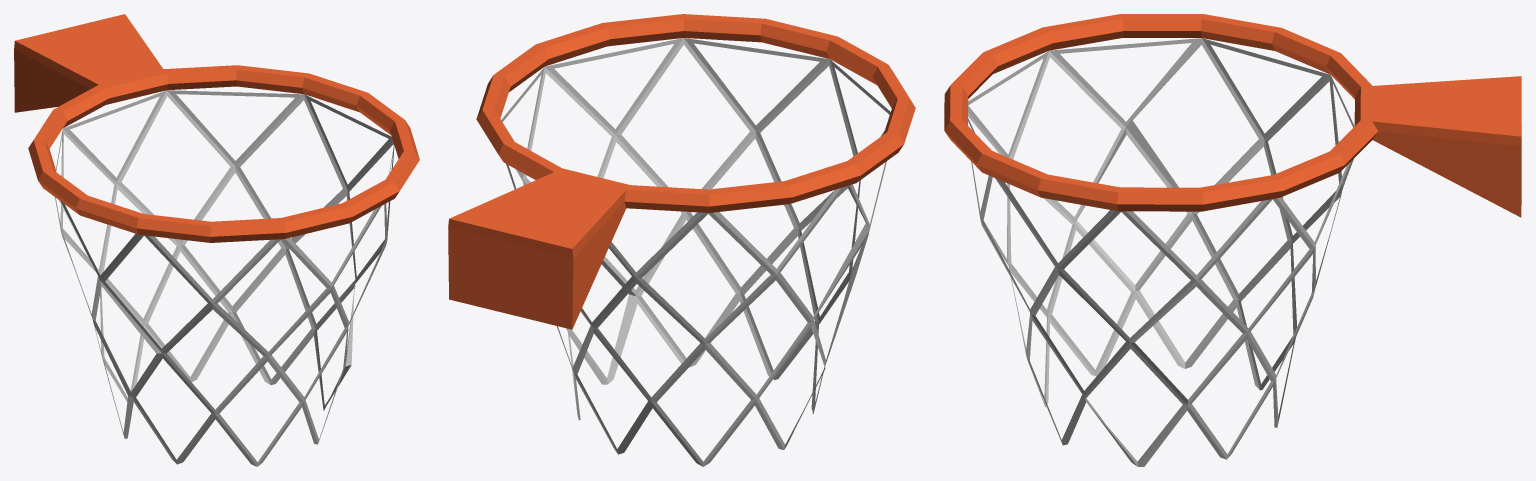
File: pota_cemberi.fbx
The picture shows the model from 3 angles, left to right: view 1: azimuth 30°, elevation 25°; view 2: azimuth 150°, elevation 25°; view 3: azimuth 270°, elevation 25°; orthographic projection. The views are drawn at different scales.
Parts seen in each view (by area): view 1: Cember; view 2: Cember; view 3: Cember.
Boxes of the visible parts, x1,y1,x2,y2 form: Cember: (14, 14, 419, 466); Cember: (448, 14, 915, 466); Cember: (944, 14, 1521, 466).
Bounding box in the file's own units: 216 × 173 × 287.
